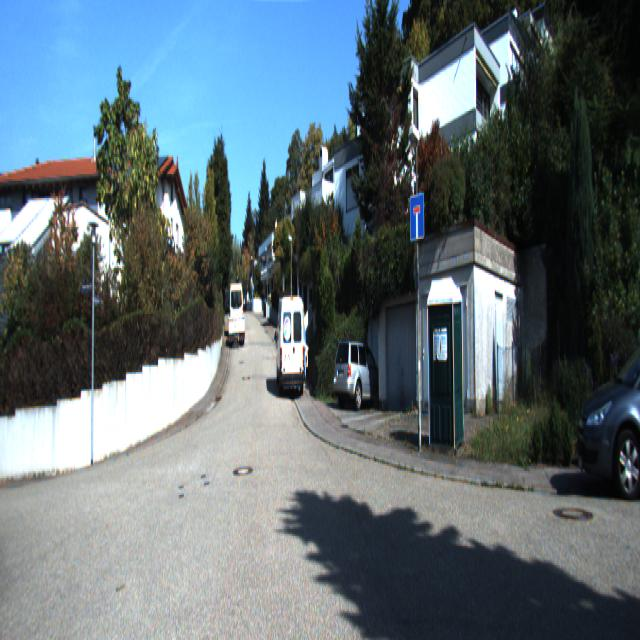Car: (574, 306, 640, 492), (332, 339, 388, 414), (275, 292, 307, 398), (230, 282, 244, 336), (228, 317, 245, 345)
